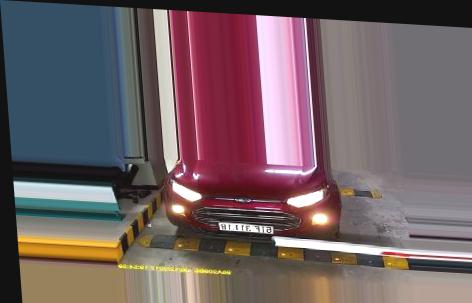License_Plate: (217, 220, 273, 235)
